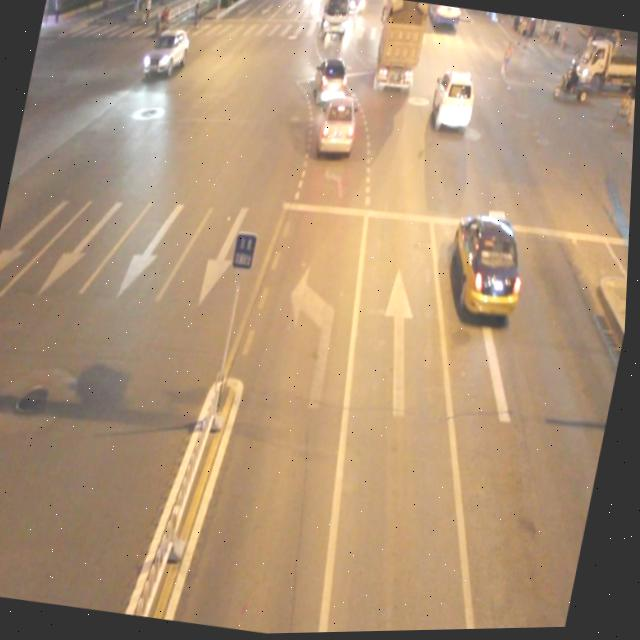car: (443, 213, 533, 324), (314, 91, 365, 161), (429, 69, 479, 134), (140, 25, 193, 83), (308, 52, 354, 112)
